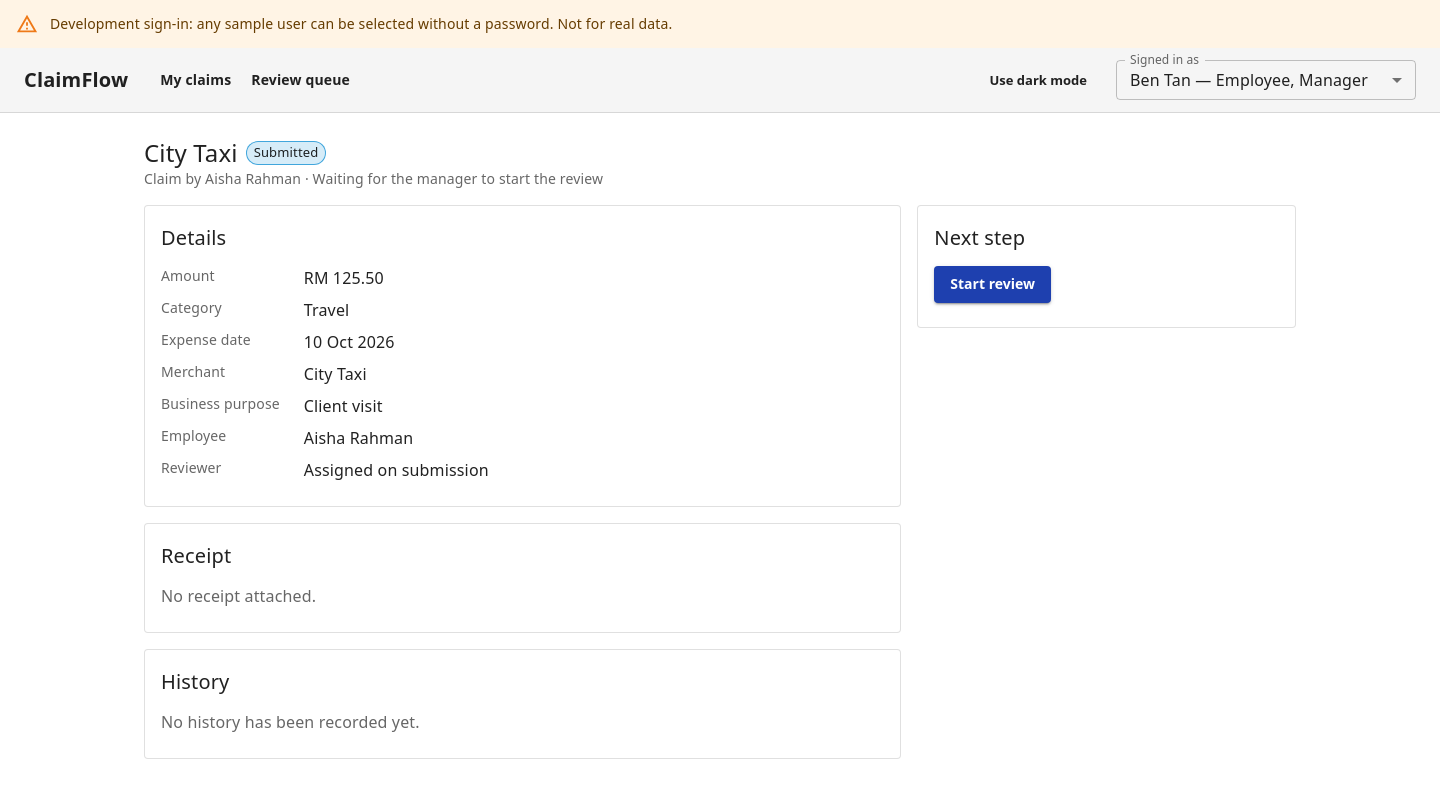
it: lifecycle actions › START_REVIEW sends the claim version with no comment, updates the page, and confirms
Click the button "Start review" at [993, 284], box [934,266,1051,302]
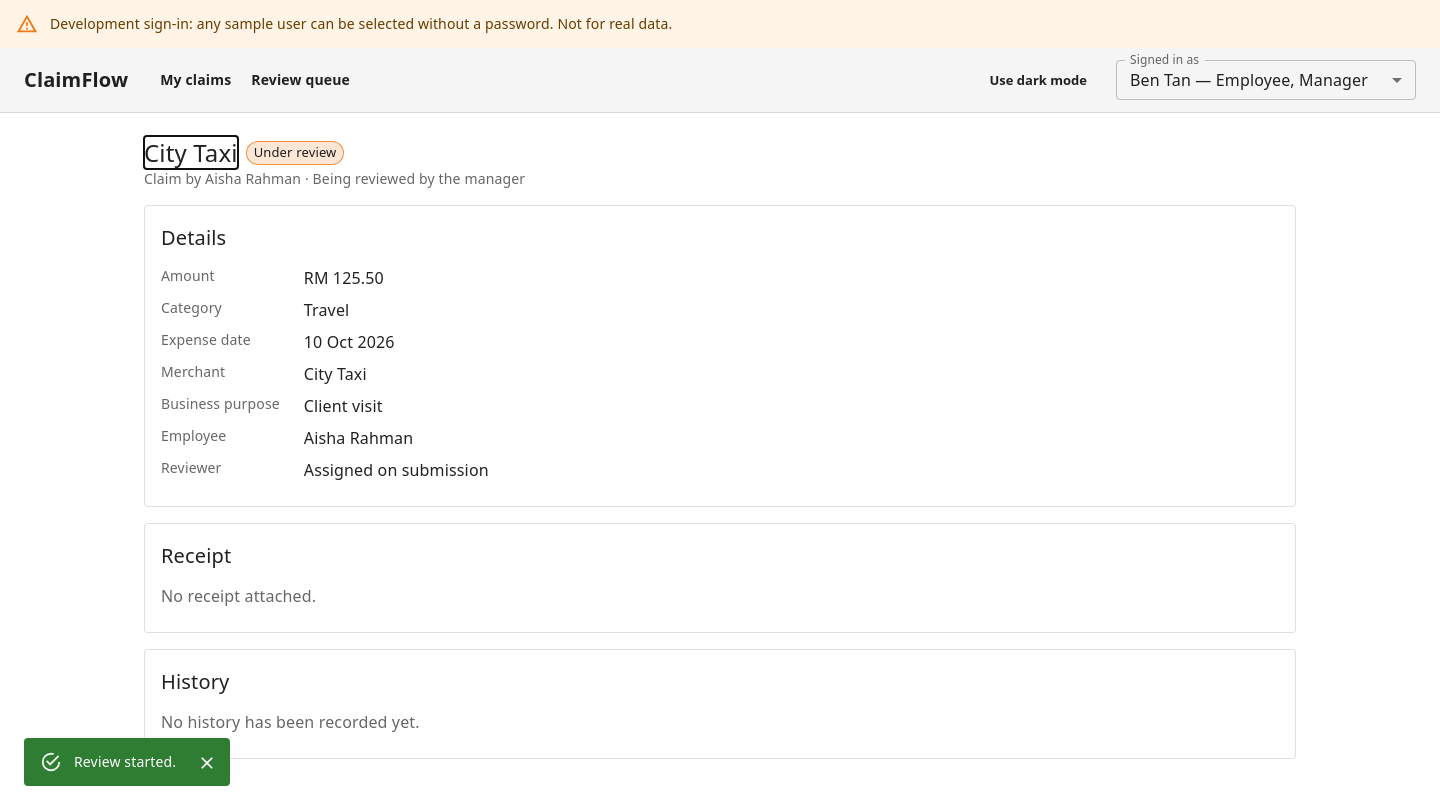
Check: the text "Review started." is shown, box [74,752,176,771]
Check: the button "Start review" is gone
